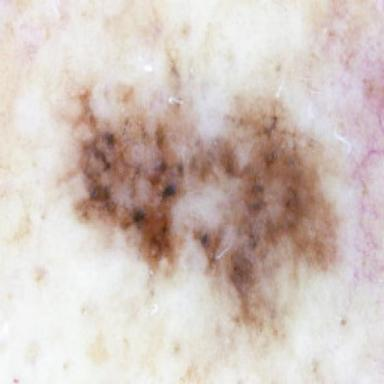Melanoma: (77, 57, 335, 332)
